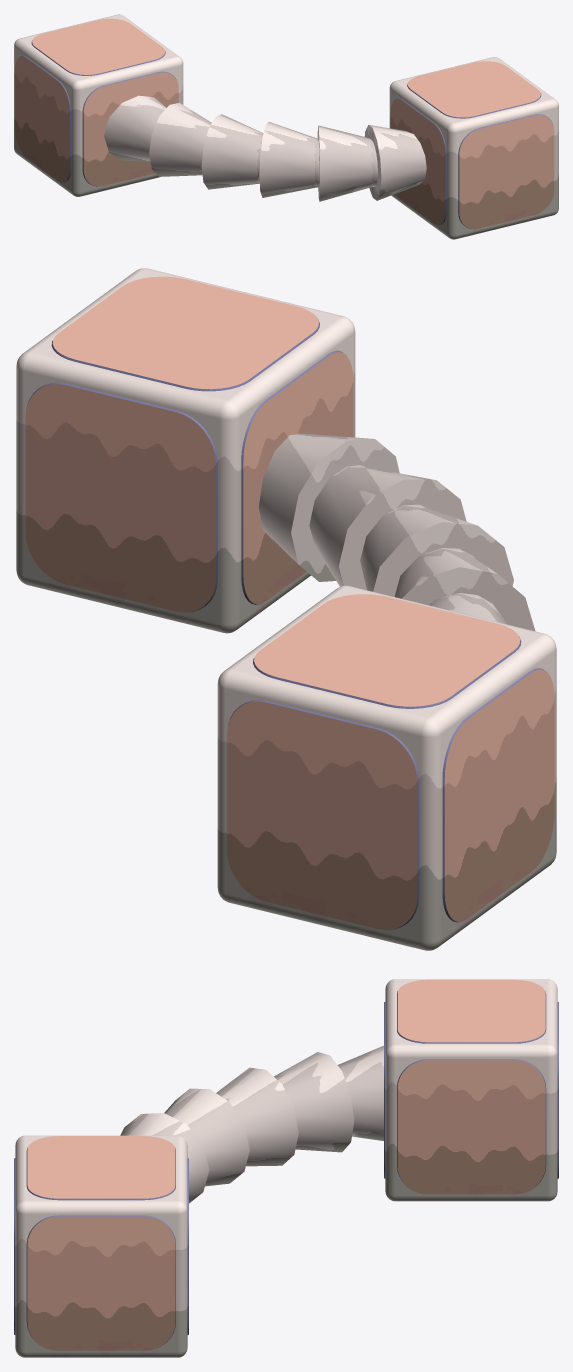
File: R4C_STRUT_ARC.glb
The picture shows the model from 3 angles, top to bottom: view 1: azimuth 30°, elevation 25°; view 2: azimuth 150°, elevation 25°; view 3: azimuth 270°, elevation 25°; orthographic projection. The views are drawn at different scales.
Parts seen in each view (by area): view 1: R4C_STRUT_ARC; view 2: R4C_STRUT_ARC; view 3: R4C_STRUT_ARC.
Boxes of the visible parts, <box> form: R4C_STRUT_ARC: <box>14,14,558,239</box>; R4C_STRUT_ARC: <box>16,268,556,950</box>; R4C_STRUT_ARC: <box>14,979,558,1357</box>.
Size of the model in its own units: 1.62 by 0.52 by 1.62.
Materials: 3 (3 with a texture image).
